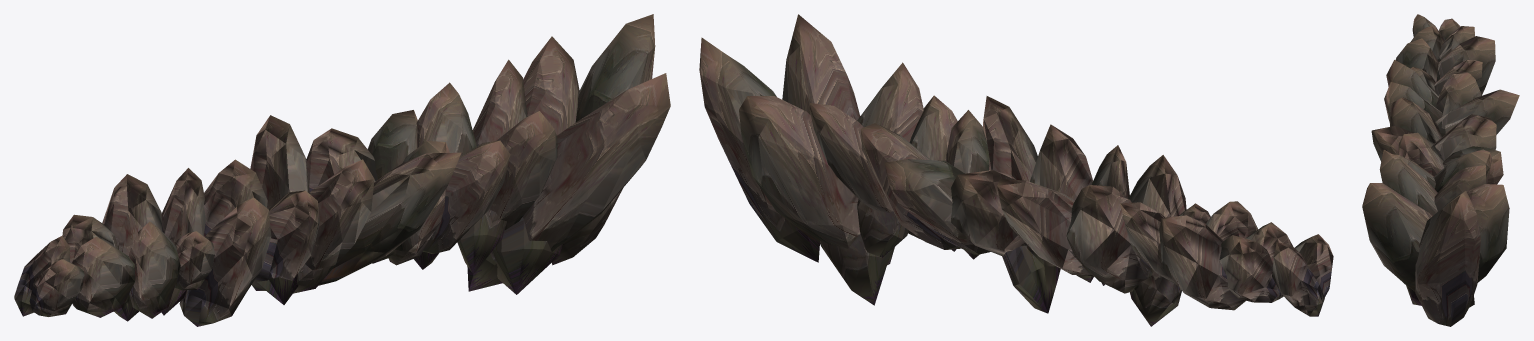
File: cjz_shitou1.FBX
3 renders of one model, left to right at view 1: azimuth 30°, elevation 25°; view 2: azimuth 150°, elevation 25°; view 3: azimuth 270°, elevation 25°, orthographic. The views are drawn at different scales.
Parts seen in each view (by area): view 1: cjz_shitou1; view 2: cjz_shitou1; view 3: cjz_shitou1.
Part boxes in pixels (x1,y1,x2,y2): cjz_shitou1: (14,14,670,326); cjz_shitou1: (699,14,1333,326); cjz_shitou1: (1362,14,1519,326).
Size of the model in its own units: 199 by 69.35 by 52.96.
1 material, 1 textured.
